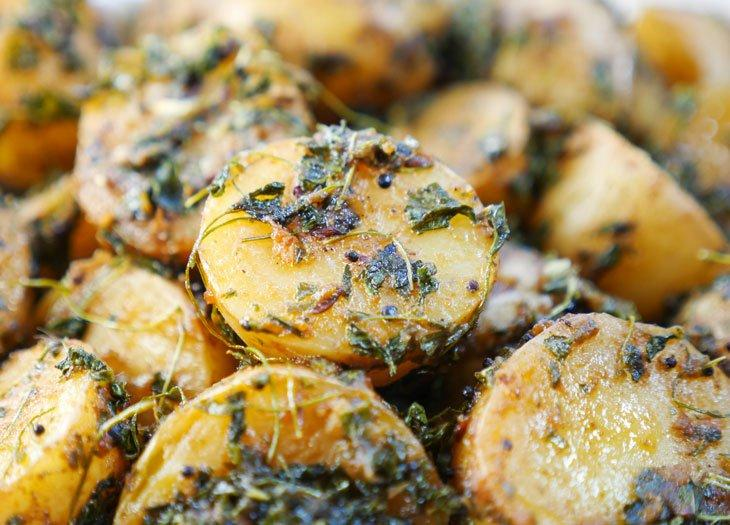Aloo Methi: (5, 5, 726, 525)
